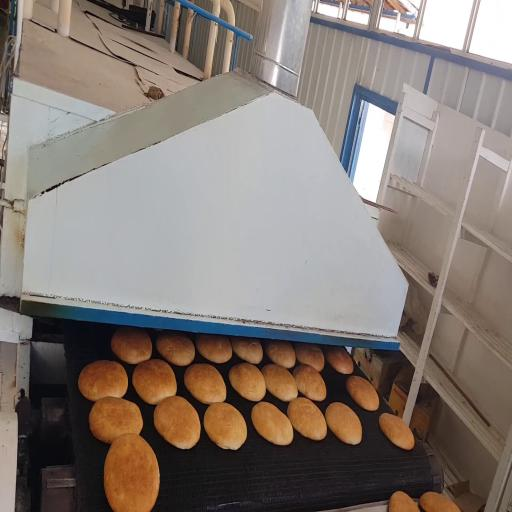bread: (104, 434, 159, 511), (89, 397, 142, 443), (154, 396, 200, 449), (132, 359, 177, 404), (78, 361, 128, 401), (204, 403, 246, 449), (252, 403, 293, 445), (184, 364, 226, 404), (287, 398, 326, 440), (111, 327, 152, 364), (326, 403, 362, 445), (229, 363, 266, 401), (156, 332, 195, 366), (379, 413, 414, 450), (262, 365, 297, 402), (293, 364, 326, 401), (346, 376, 379, 411), (196, 334, 232, 363), (265, 340, 296, 368), (295, 343, 324, 371), (231, 338, 262, 364), (420, 492, 460, 511), (326, 347, 353, 374), (389, 492, 419, 511)
